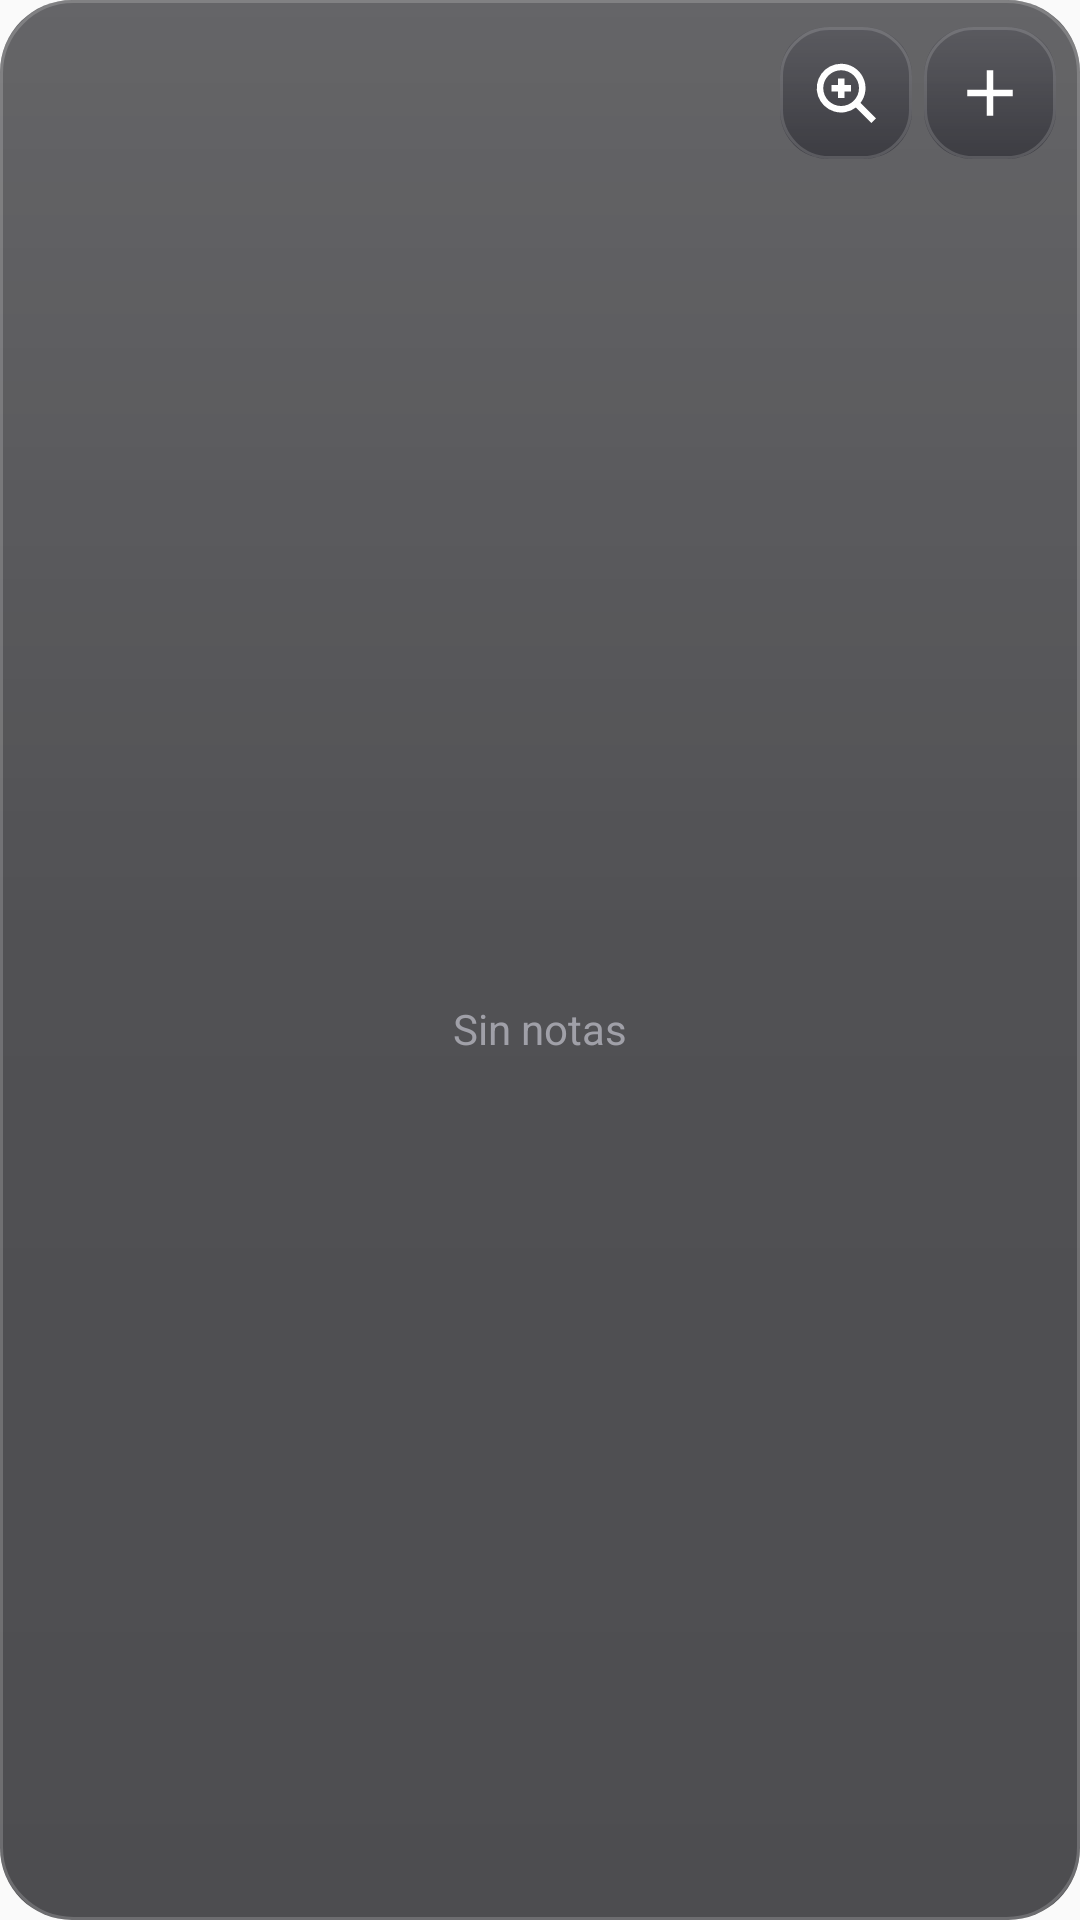

Icons on this 1080*1920 Android screen, each with its box as [x1,y1,x2,y2]:
Agrandar: [783,63,909,156]
Nueva nota: [927,70,1053,156]
